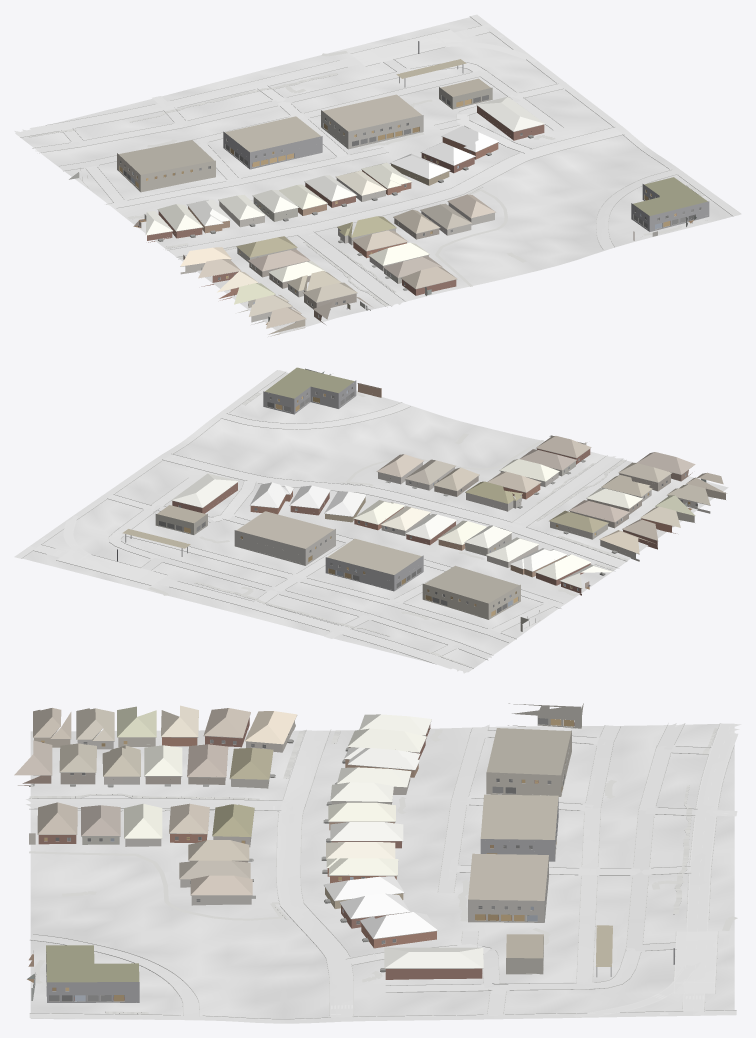
The picture shows the model from 3 angles, top to bottom: view 1: azimuth 30°, elevation 25°; view 2: azimuth 150°, elevation 25°; view 3: azimuth 270°, elevation 25°; orthographic projection. The views are drawn at different scales.
Parts seen in each view (by area): view 1: ground, roof, concrete, roof_flat, asphalt, wall_com, curb, wall, walk, detail, wall_stucco, wall_stone (+3 smaller); view 2: ground, roof, concrete, roof_flat, wall_com, asphalt, curb, wall, walk, detail, wall_stucco, wall_stone (+3 smaller); view 3: ground, roof, concrete, roof_flat, asphalt, wall_com, curb, wall, walk, detail, wall_stucco, wall_stone (+3 smaller).
Part boxes in pixels (x1,y1,x2,y2): ground: (15,17,741,333); roof: (145,96,544,328); concrete: (32,59,677,306); roof_flat: (118,59,707,215); asphalt: (14,14,740,216); wall_com: (117,64,709,231); curb: (20,16,733,306); wall: (147,106,634,324); walk: (28,51,704,306); detail: (79,41,707,325); wall_stucco: (180,197,687,336); wall_stone: (251,178,494,324); ground: (22,370,728,672); roof: (171,436,727,588); concrete: (108,402,626,659); roof_flat: (122,367,519,603); wall_com: (125,380,528,631); asphalt: (14,370,473,673); curb: (21,372,627,668); wall: (172,383,692,595); walk: (148,392,627,665); detail: (117,374,714,628); wall_stucco: (305,368,725,567); wall_stone: (378,462,710,535); ground: (30,723,734,1020); roof: (14,705,483,968); concrete: (26,723,710,1022); roof_flat: (46,728,612,982); asphalt: (29,723,741,1023); wall_com: (46,703,612,1002); curb: (29,723,736,1019); wall: (18,717,482,979); walk: (29,727,737,1014); detail: (29,713,674,1001); wall_stucco: (29,721,410,1000); wall_stone: (77,740,251,905).
Size of the model in its own units: 259 by 12.52 by 258.
